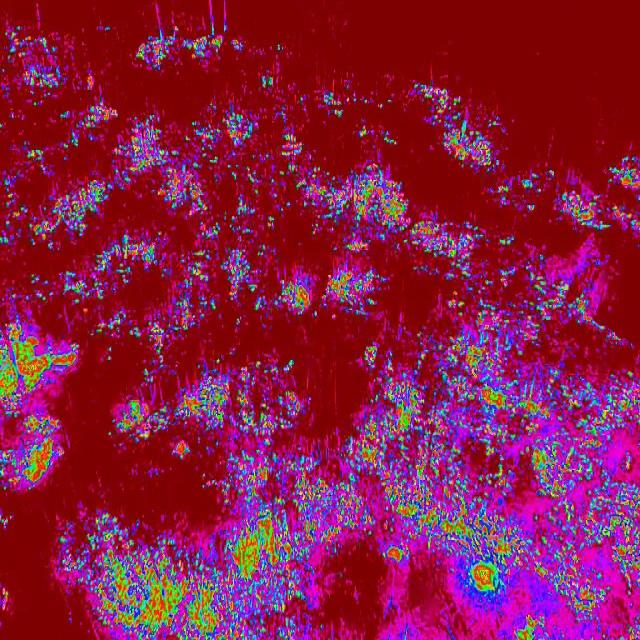fire: (77, 157, 640, 357), (111, 360, 640, 510), (60, 511, 640, 640), (76, 73, 512, 156), (0, 26, 76, 488), (127, 26, 259, 75)
